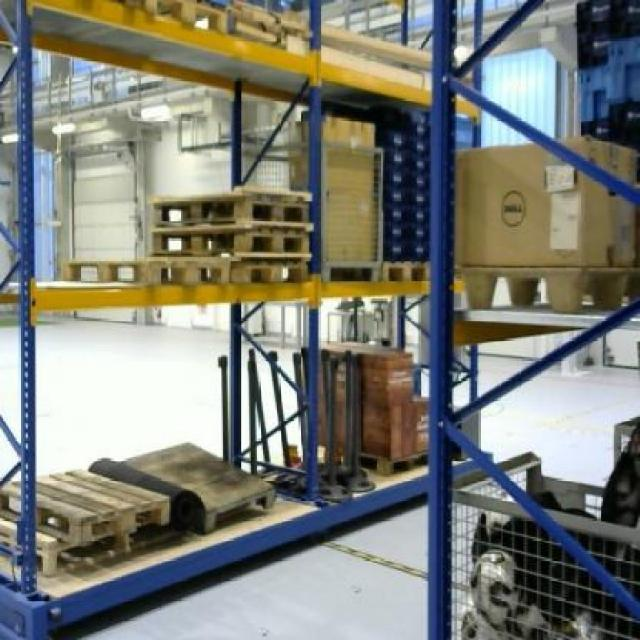box: (452, 134, 636, 266), (320, 115, 374, 258)
